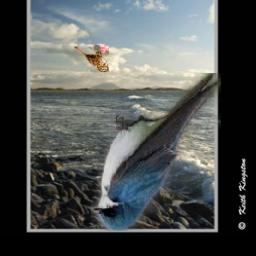Sparrow: (73, 45, 109, 72)
Swallow: (92, 73, 222, 231)
